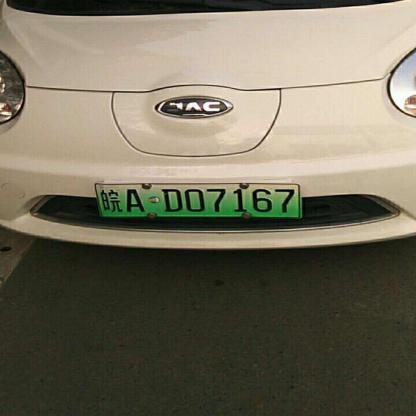lp: (95, 183, 300, 217)
